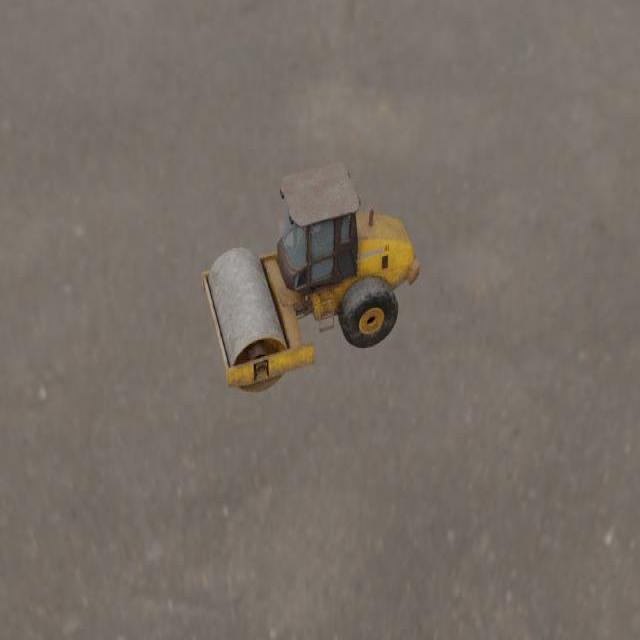Roller: (201, 162, 420, 394)
